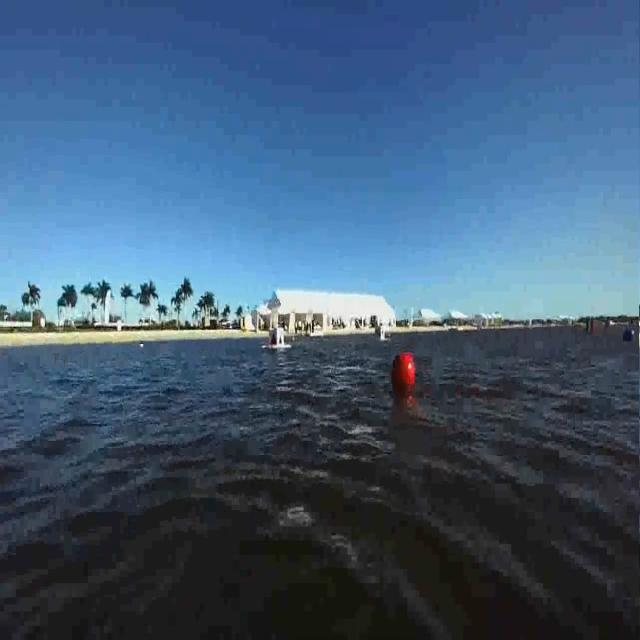blue-buoy: (624, 328, 636, 345)
red-buoy: (390, 353, 415, 392)
